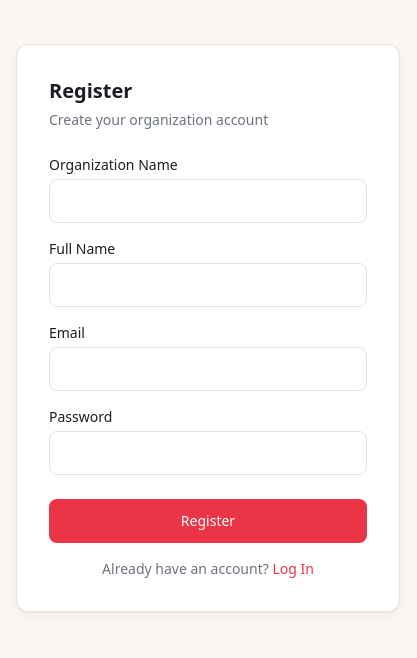
Test: RegisterView › shows a generic error on failure without leaking the backend detail
Type "Senus PLC" into the field labelled "Organization Name" at x=208, y=201, box [49,179,367,223]
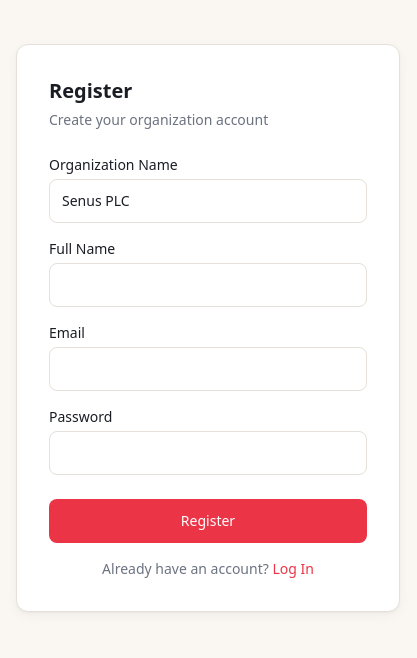
Type "Jane Doe" into the field labelled "Full Name" at x=208, y=285, box [49,263,367,307]
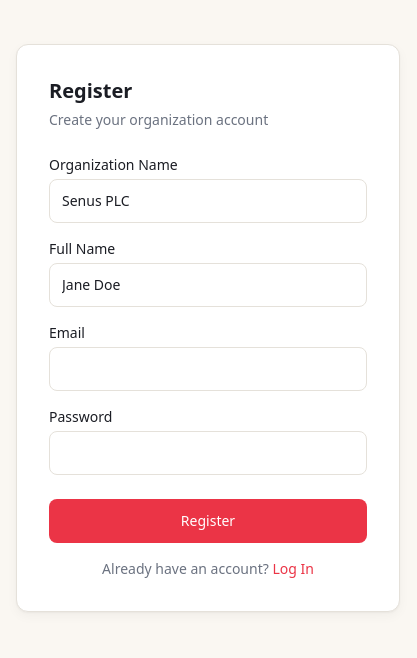
Type "jane@example.com" into the field labelled "Email" at x=208, y=369, box [49,347,367,391]
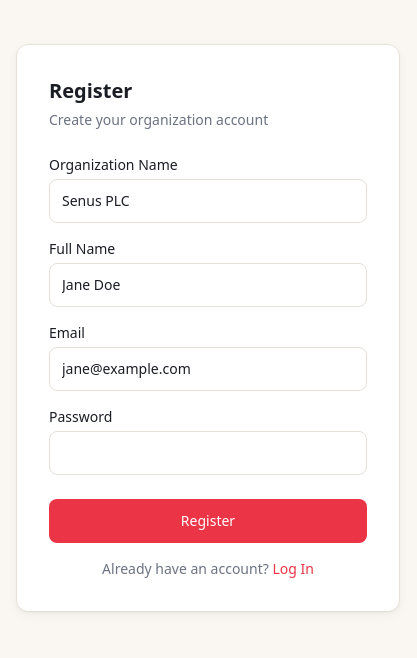
Type "password123" into the password field labelled "Password" at x=208, y=453, box [49,431,367,475]
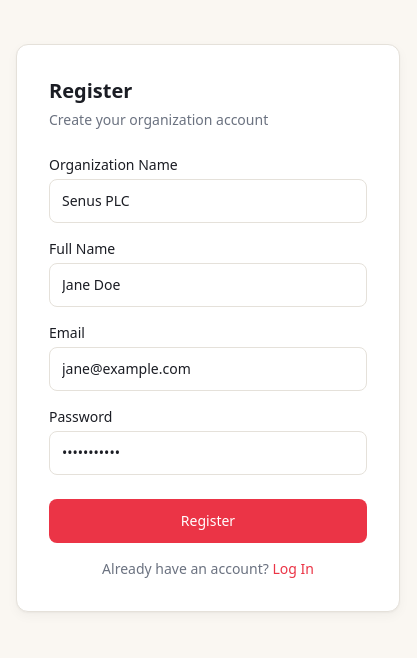
Click the button "Register" at x=208, y=521, box [49,499,367,543]
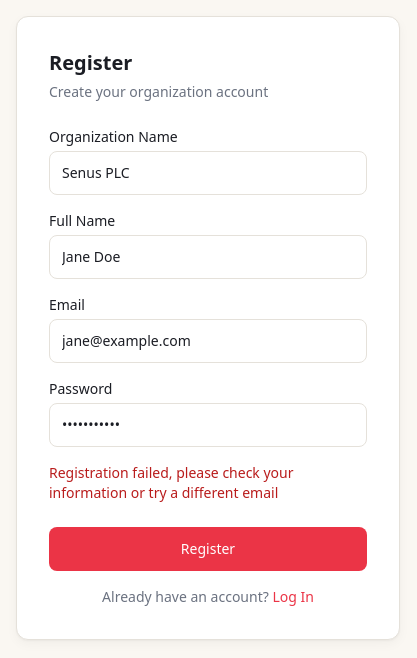
Check: the text "Registration failed, please check your information or try a different email" is shown, box [49,463,294,502]
